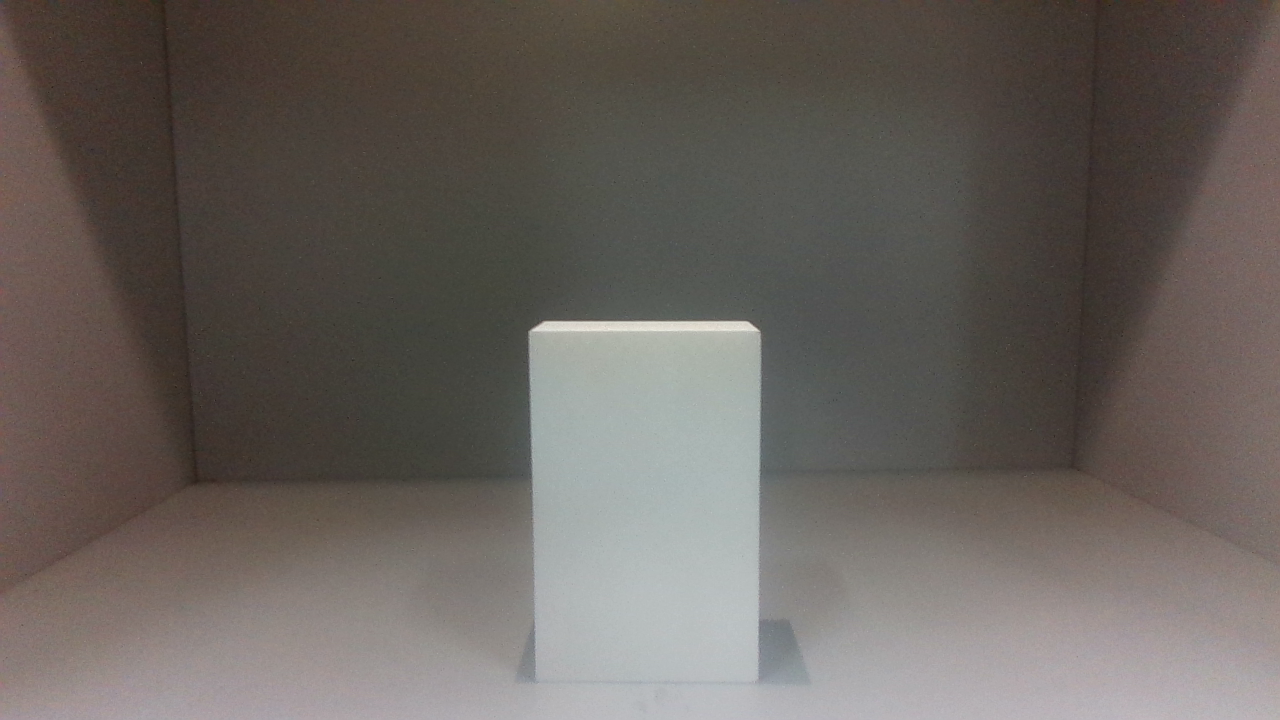Retangulo: (529, 321, 759, 681)
